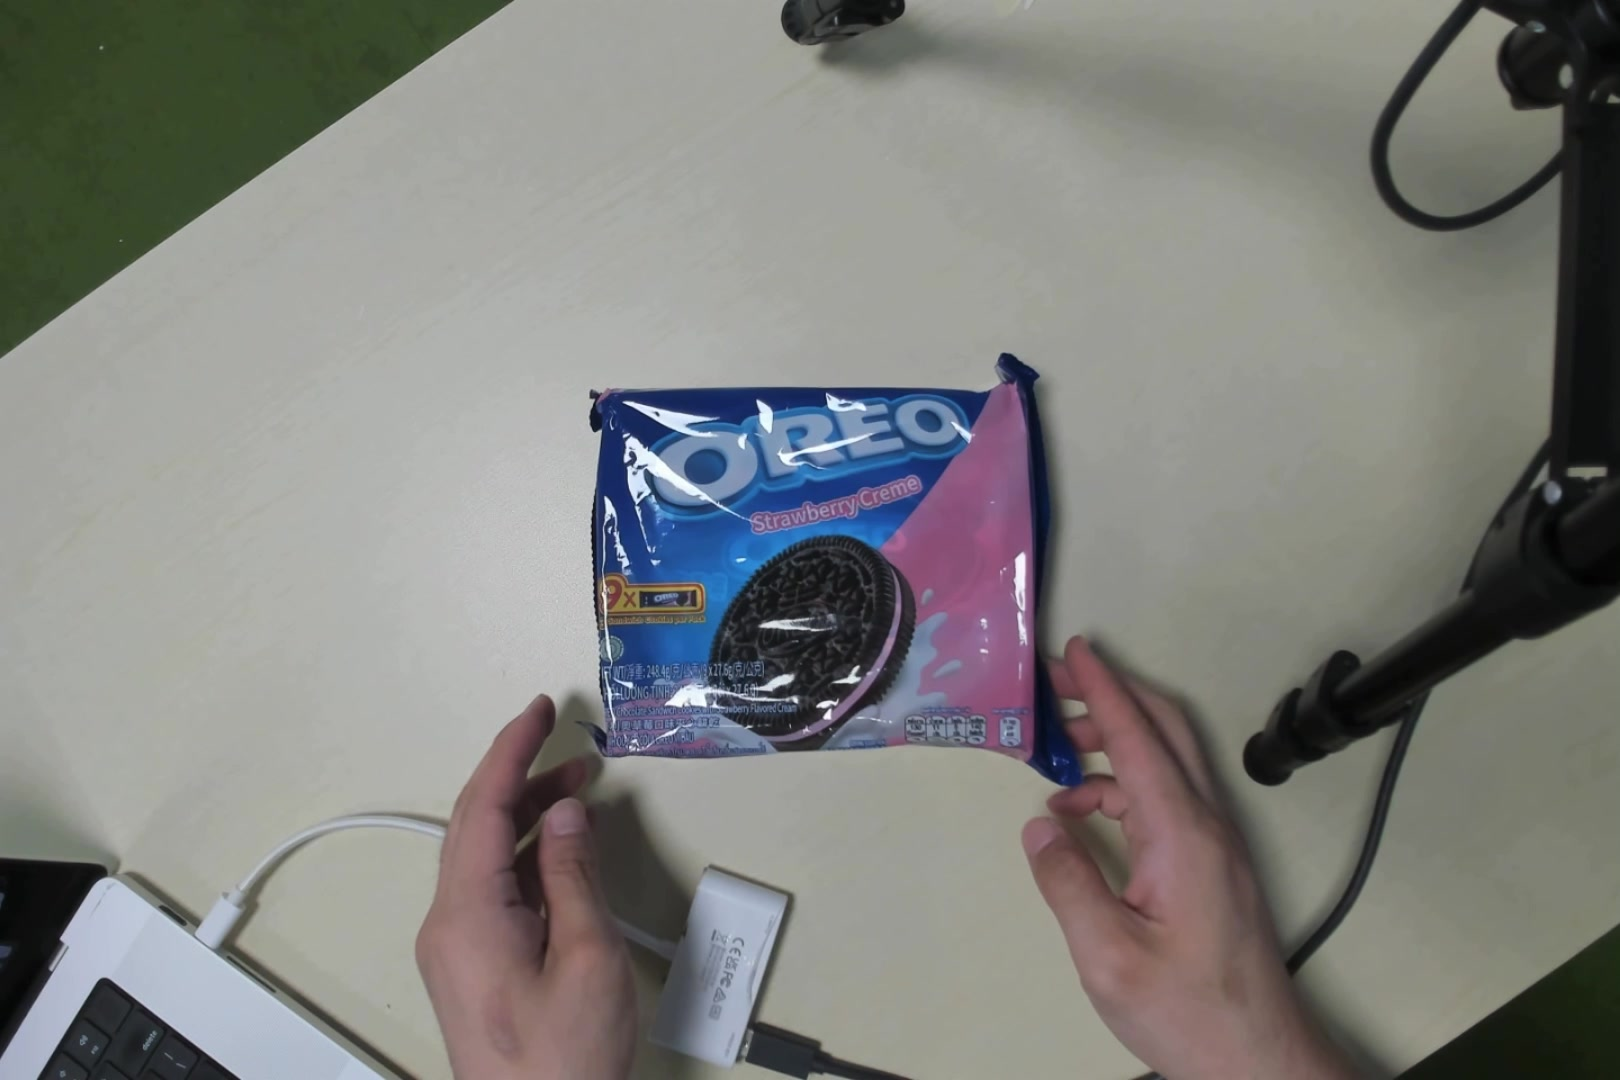SweetsChocolatesOthers_200-299g_Halal_NonHealthy: (581, 360, 1060, 756)
